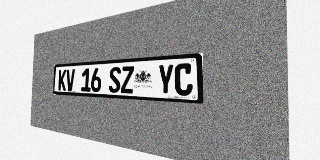1: (81, 68, 91, 92)
6: (91, 68, 101, 92)
C: (174, 63, 193, 96)
K: (58, 69, 66, 91)
S: (109, 67, 121, 93)
V: (66, 69, 75, 91)
Y: (157, 64, 174, 95)
Z: (121, 66, 134, 93)
